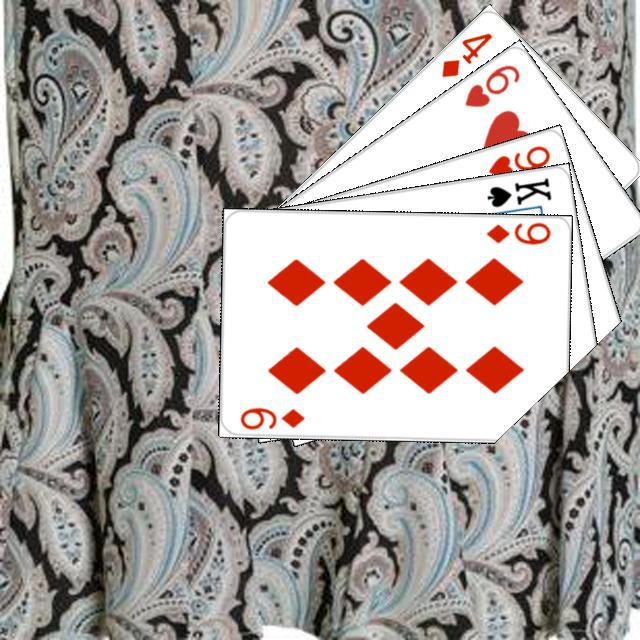4d: (436, 28, 494, 79)
6h: (459, 59, 522, 110)
9d: (235, 402, 306, 431), (481, 219, 552, 246)
9h: (483, 140, 552, 180)
Ks: (482, 173, 553, 209)
